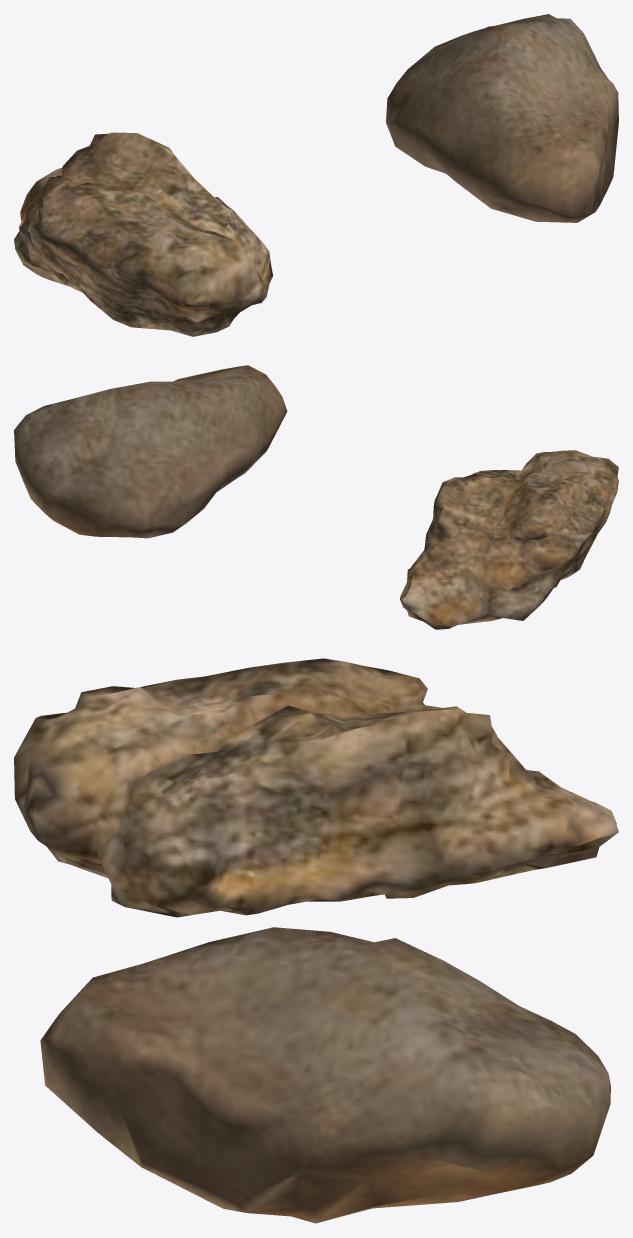
Rendered from rock-sandstone-group.lite.29555ae6.glb.
3 renders of one model, top to bottom at view 1: azimuth 30°, elevation 25°; view 2: azimuth 150°, elevation 25°; view 3: azimuth 270°, elevation 25°, orthographic. The views are drawn at different scales.
Visible parts, largest first — view 1: model; view 2: model; view 3: model.
Boxes of the visible parts, bbox=[...] form: model: bbox=[14, 14, 618, 336]; model: bbox=[14, 365, 618, 629]; model: bbox=[14, 658, 618, 1223].
Bounding box in the file's own units: 1.06 × 0.2496 × 0.5816.
Materials: 1 (1 with a texture image).
